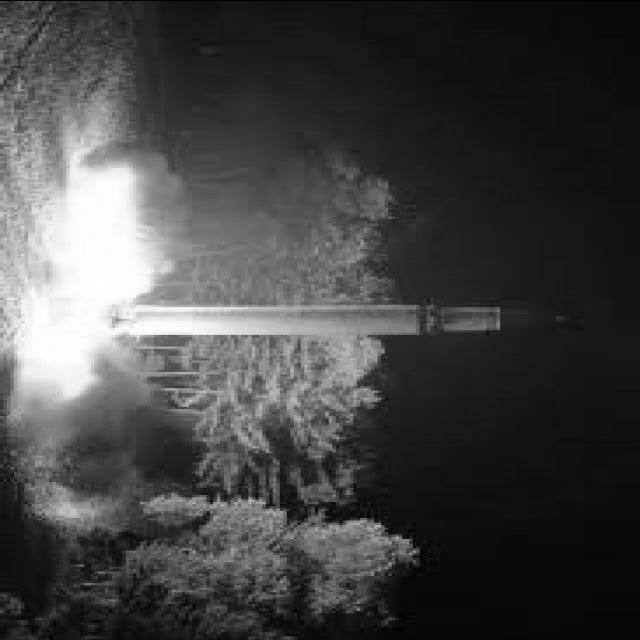Missile: (96, 301, 525, 341)
